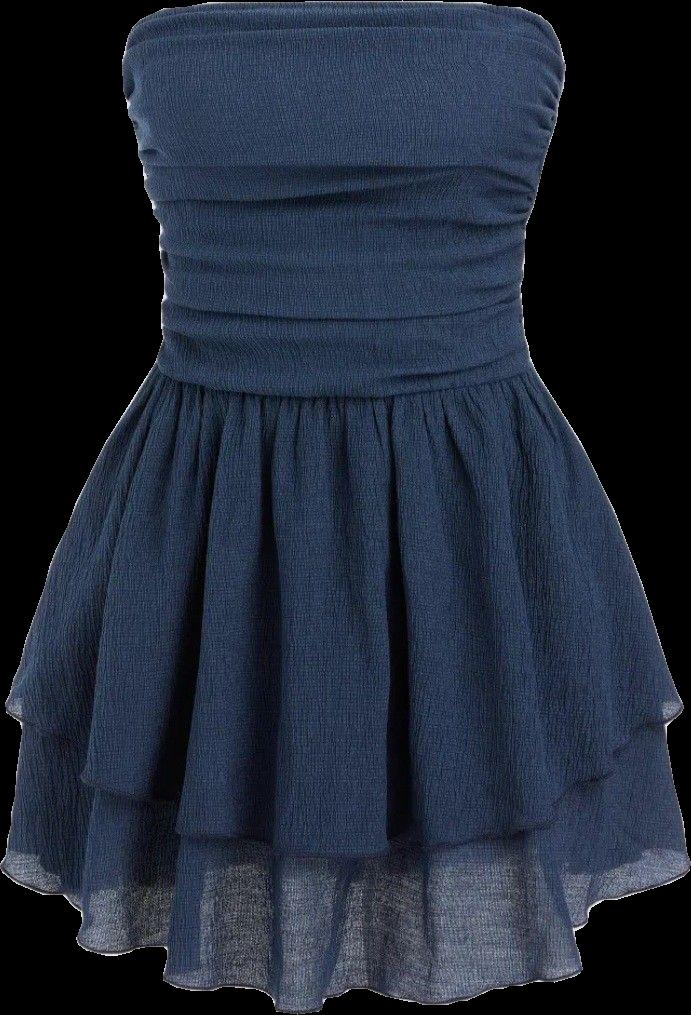Bodice: (122, 1, 565, 403)
Hemline: (2, 698, 686, 863), (0, 856, 690, 1014)
Neckline: (114, 0, 569, 65)
Skirt: (0, 371, 690, 1011)
Waistline: (146, 368, 543, 412)
